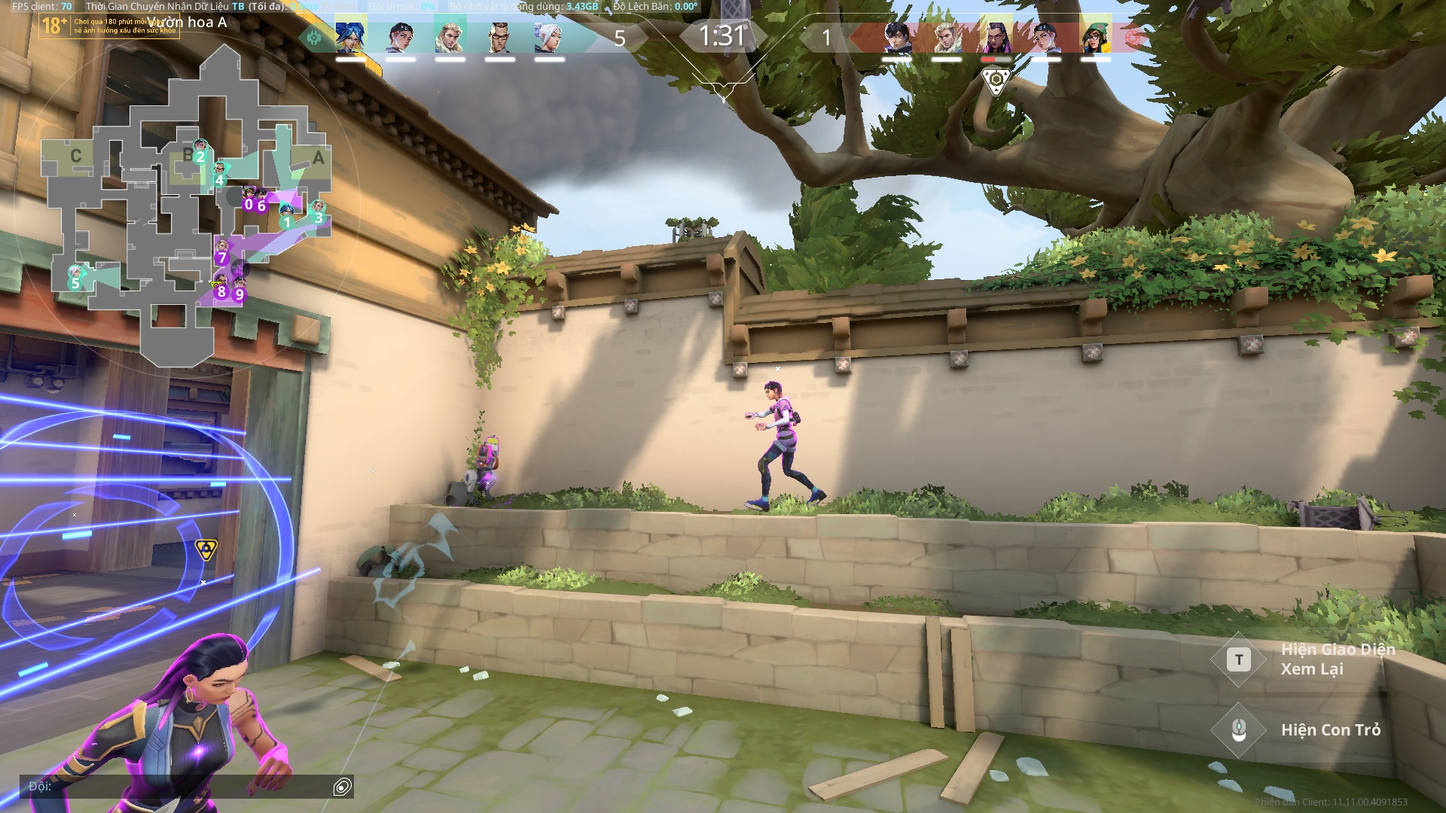body: (115, 691, 245, 778), (769, 399, 800, 428)
head: (180, 634, 258, 704), (761, 381, 782, 400)
